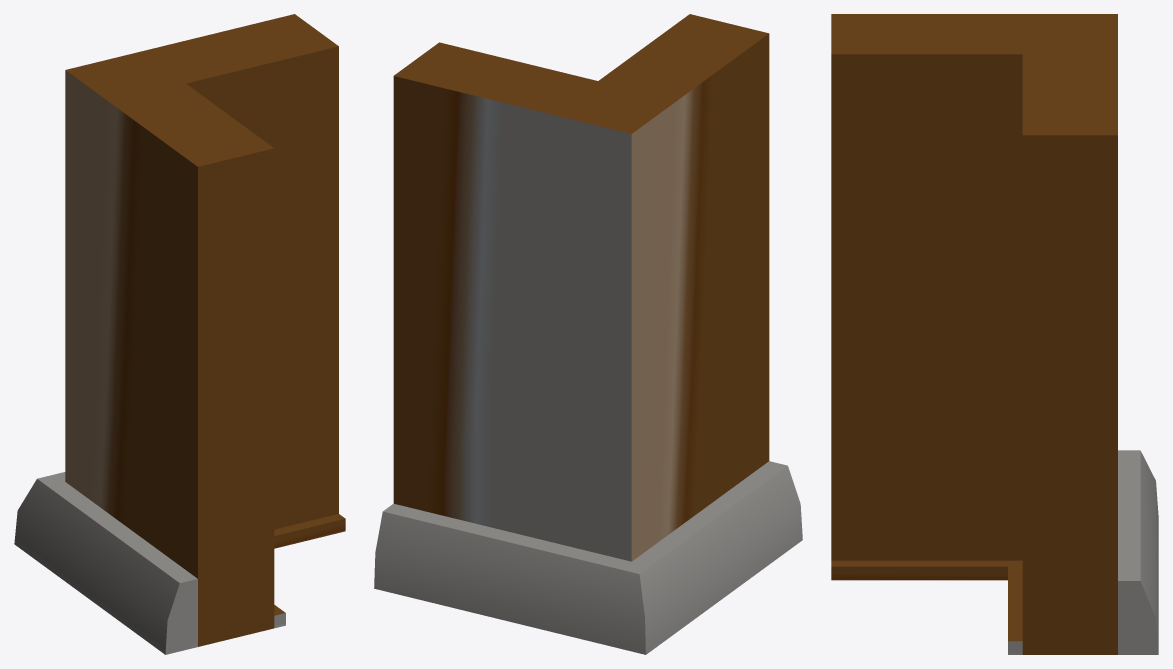
The model's file is SM_Wall_Corner_Outer_NoTop.fbx.
The picture shows the model from 3 angles, left to right: view 1: azimuth 30°, elevation 25°; view 2: azimuth 150°, elevation 25°; view 3: azimuth 270°, elevation 25°; orthographic projection. The views are drawn at different scales.
Parts seen in each view (by area): view 1: SM_Wall_Corner_Outer_NoTop; view 2: SM_Wall_Corner_Outer_NoTop; view 3: SM_Wall_Corner_Outer_NoTop.
Boxes of the visible parts, bbox=[...] form: SM_Wall_Corner_Outer_NoTop: bbox=[14, 14, 345, 654]; SM_Wall_Corner_Outer_NoTop: bbox=[374, 14, 802, 654]; SM_Wall_Corner_Outer_NoTop: bbox=[831, 14, 1158, 654].
Bounding box in the file's own units: 171 × 300 × 171.
